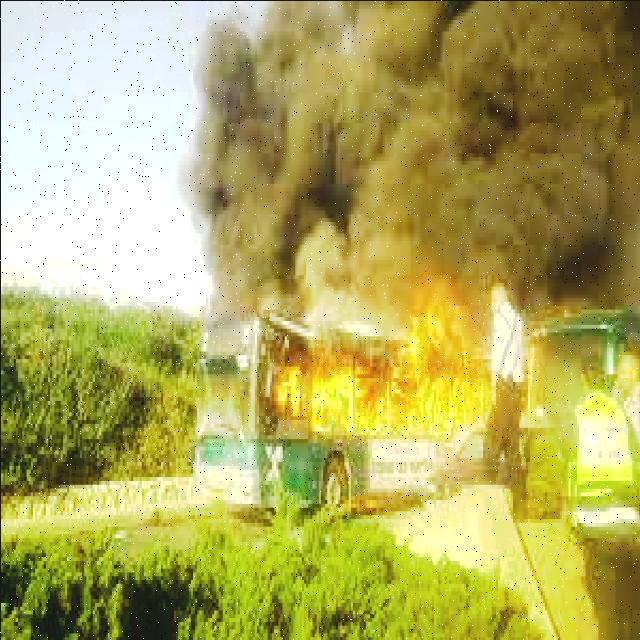api: (259, 264, 511, 447)
